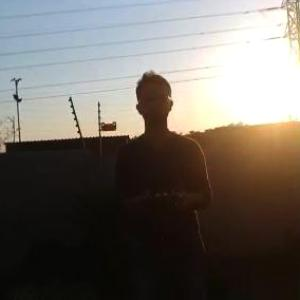follow: (114, 64, 221, 299)
